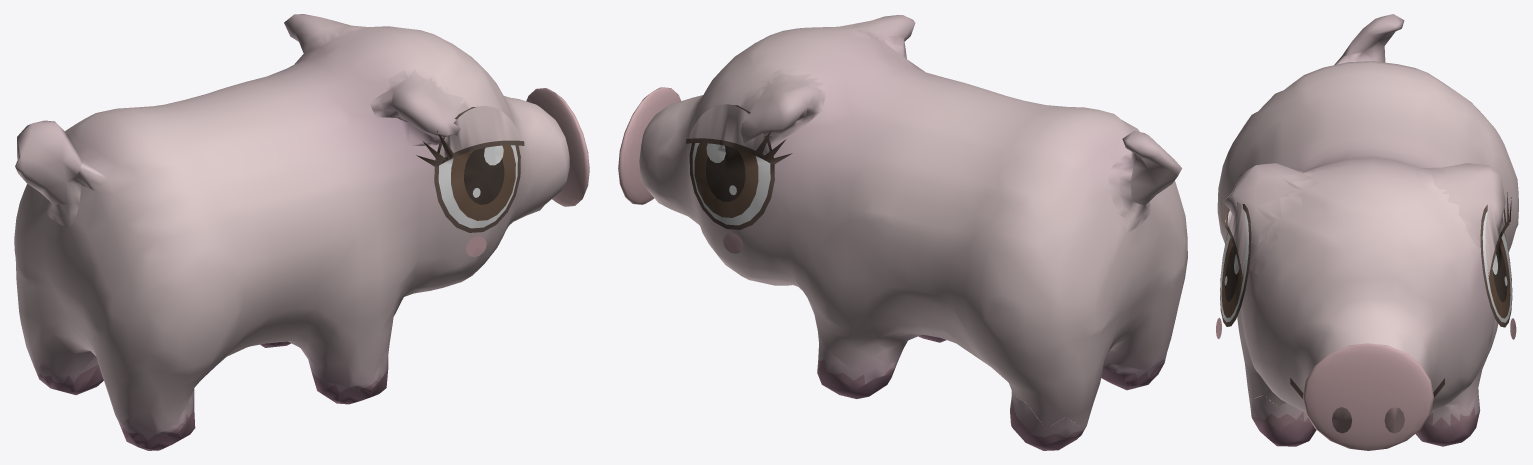
The model's file is piglet.glb.
The picture shows the model from 3 angles, left to right: view 1: azimuth 30°, elevation 25°; view 2: azimuth 150°, elevation 25°; view 3: azimuth 270°, elevation 25°; orthographic projection.
Visible parts, largest first — view 1: piglet; view 2: piglet; view 3: piglet.
Part boxes in pixels (box(x1,y1,x2,y2)): piglet: box(14, 14, 589, 450); piglet: box(618, 15, 1187, 450); piglet: box(1216, 14, 1518, 450).
Size of the model in its own units: 0.5462 by 0.2967 by 0.2652.
